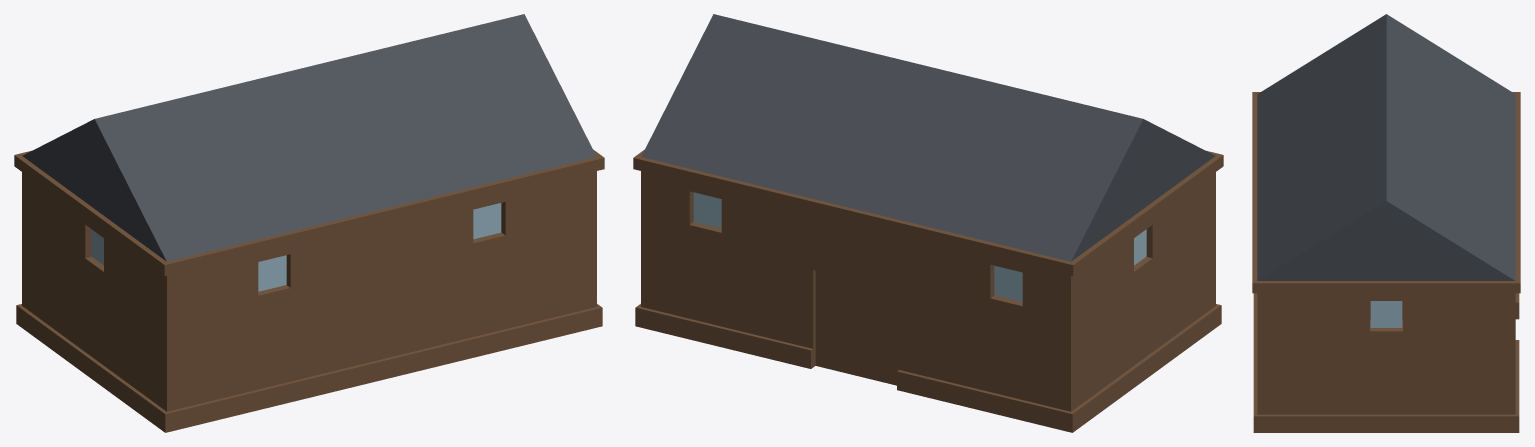
3 renders of one model, left to right at view 1: azimuth 30°, elevation 25°; view 2: azimuth 150°, elevation 25°; view 3: azimuth 270°, elevation 25°, orthographic. The views are drawn at different scales.
Parts seen in each view (by area): view 1: body_timber, roof_slate, trim_timber, glass_glass (×2); view 2: body_timber, roof_slate, trim_timber, glass_glass (×2); view 3: roof_slate, body_timber, trim_timber, glass_glass.
Boxes of the visible parts, <box> form: body_timber: <box>22,171,596,411</box>; roof_slate: <box>22,14,596,261</box>; trim_timber: <box>14,149,604,432</box>; glass_glass (×2): <box>258,203,501,291</box>; body_timber: <box>641,171,1215,411</box>; roof_slate: <box>641,14,1215,261</box>; trim_timber: <box>633,149,1223,432</box>; glass_glass (×2): <box>693,192,1022,302</box>; roof_slate: <box>1257,14,1515,280</box>; body_timber: <box>1257,293,1515,414</box>; trim_timber: <box>1252,92,1520,432</box>; glass_glass: <box>1370,301,1402,327</box>.
Size of what is drawn, in the model's own units: 12.28 by 6.9 by 7.28.
